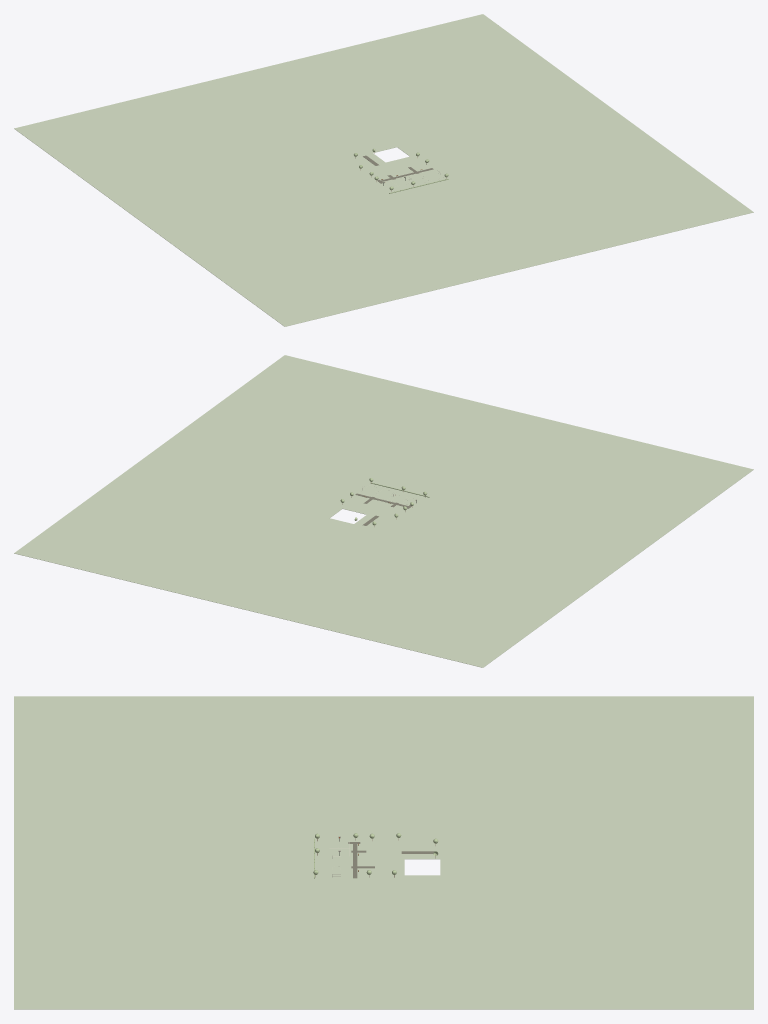
File: grounds-v6.glb
The picture shows the model from 3 angles, top to bottom: view 1: azimuth 30°, elevation 25°; view 2: azimuth 150°, elevation 25°; view 3: azimuth 270°, elevation 25°; orthographic projection. The views are drawn at different scales.
Visible parts, largest first — view 1: Ground outside OFFICE, Ground outside OFFICE.001, Ground outside OFFICE.002, Ground outside OFFICE.003; view 2: Ground outside OFFICE, Ground outside OFFICE.001, Ground outside OFFICE.002, Ground outside OFFICE.003; view 3: Ground outside OFFICE, Ground outside OFFICE.001, Ground outside OFFICE.002, Ground outside OFFICE.003.
Part boxes in pixels (x1,y1,x2,y2): Ground outside OFFICE: (14,69,528,326); Ground outside OFFICE.001: (283,14,753,261); Ground outside OFFICE.002: (386,156,552,267); Ground outside OFFICE.003: (258,63,396,152); Ground outside OFFICE: (239,410,753,667); Ground outside OFFICE.001: (14,355,484,602); Ground outside OFFICE.002: (343,404,509,514); Ground outside OFFICE.003: (215,518,353,608); Ground outside OFFICE: (14,696,753,859); Ground outside OFFICE.001: (14,875,753,1009); Ground outside OFFICE.002: (14,859,404,875); Ground outside OFFICE.003: (440,859,753,875).
Size of the model in its own units: 500 by 6.01 by 500.
8 materials, 2 textured.
